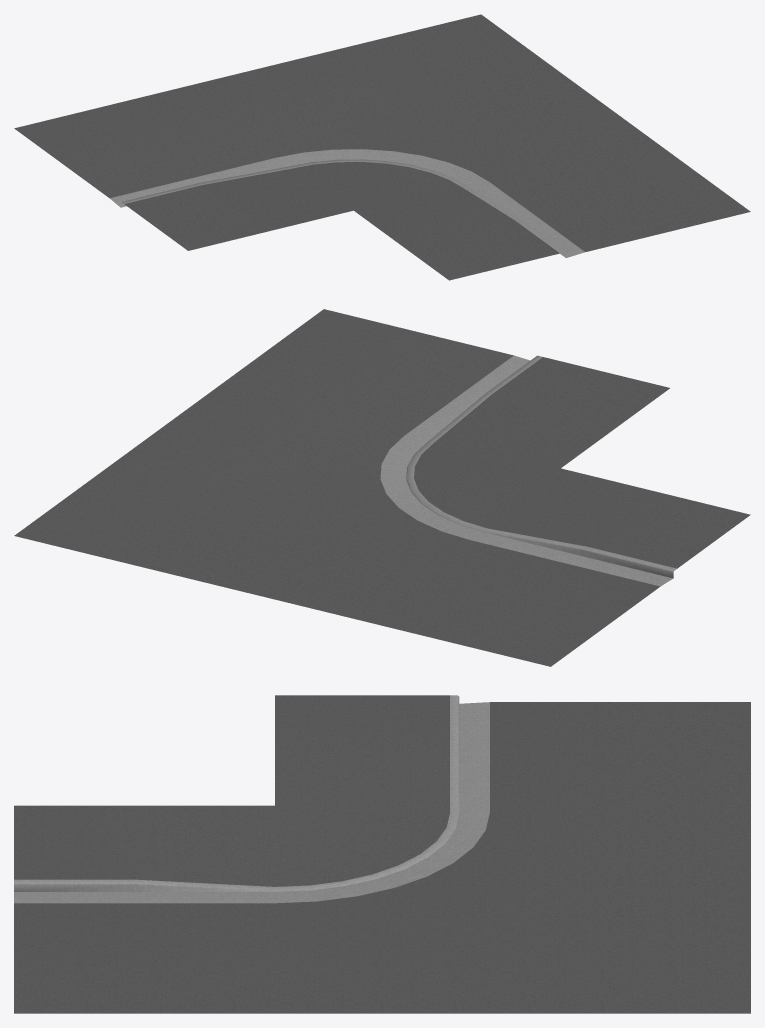
Rendered from Junction1_RoadL.glb.
3 renders of one model, top to bottom at view 1: azimuth 30°, elevation 25°; view 2: azimuth 150°, elevation 25°; view 3: azimuth 270°, elevation 25°, orthographic. The views are drawn at different scales.
Visible parts, largest first — view 1: Junction1-Road-L; view 2: Junction1-Road-L; view 3: Junction1-Road-L.
Boxes of the visible parts, left/top/right/bottom form: Junction1-Road-L: left=14, top=14, right=750, bottom=280; Junction1-Road-L: left=14, top=309, right=750, bottom=666; Junction1-Road-L: left=14, top=695, right=750, bottom=1013.
Size of the model in its own units: 12 by 0.15 by 12.
5 materials, 5 textured.
